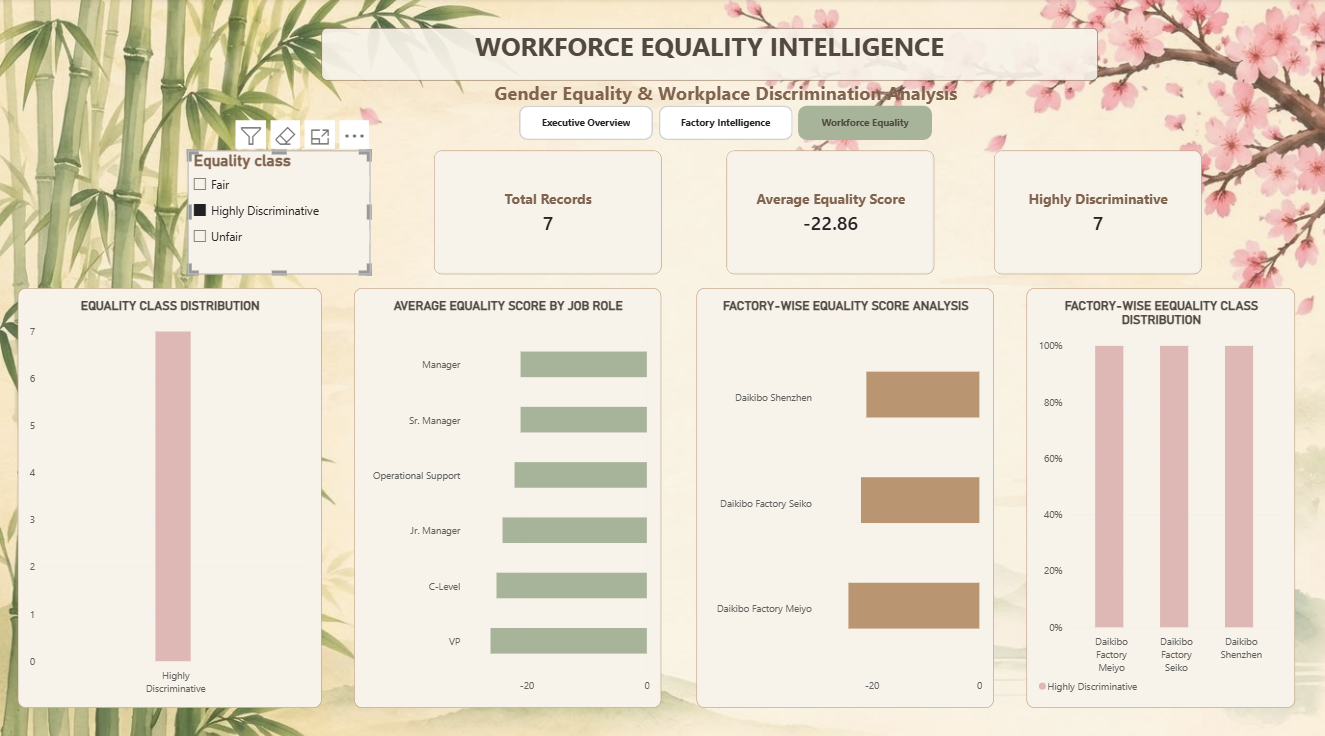

What the dashboard file says about the page in this screenshot:
{"tool":"powerbi","page":{"name":"Workforce Equality","canvas":[1920,1080],"ordinal":2},"visuals":[{"type":"textbox","box":[466.9,43.4,1123.8,76],"z":0},{"type":"textbox","box":[629.8,119.4,845.1,56.1],"z":1000},{"type":"cardVisual","fields":{"Data":["Query (3).Average Equality Score"]},"box":[1053.2,220.8,300.4,179.2],"z":2000},{"type":"cardVisual","fields":{"Data":["Query (3).Highly Discriminative"]},"box":[1440.5,220.8,300.4,179.2],"z":3000},{"type":"cardVisual","fields":{"Data":["Query (3).Total Records"]},"box":[629.8,220.8,329.4,179.2],"z":4000},{"type":"slicer","fields":{"Values":["Sheet1.Equality class"]},"box":[273.3,220.8,264.2,179.2],"z":5000},{"type":"clusteredColumnChart","title":"EQUALITY CLASS DISTRIBUTION","fields":{"Category":["Sheet1.Equality class"],"Y":["CountNonNull(Sheet1.Equality class)"]},"box":[27.1,419.8,439.7,608],"z":6000},{"type":"clusteredBarChart","title":"AVERAGE EQUALITY SCORE BY JOB ROLE","fields":{"Category":["Sheet1.Job Role"],"Y":["Avg(Sheet1.Equality Score)"]},"box":[513.9,419.8,445.2,608],"z":7000},{"type":"clusteredBarChart","title":"FACTORY-WISE EQUALITY SCORE ANALYSIS","fields":{"Category":["Sheet1.Factory"],"Y":["Avg(Sheet1.Equality Score)"]},"box":[1009.8,419.8,430.7,608],"z":8000},{"type":"hundredPercentStackedColumnChart","title":"FACTORY-WISE EEQUALITY CLASS DISTRIBUTION","fields":{"Category":["Sheet1.Factory"],"Series":["Sheet1.Equality class"],"Y":["CountNonNull(Sheet1.Equality class)"]},"box":[1487.5,419.8,389.1,608],"z":9000},{"type":"textbox","box":[23.5,112.2,1896.5,68.8],"z":10000},{"type":"pageNavigator","box":[752.8,155.6,600,50],"z":11000}]}

Visuals, with their boxes in screenshot pixels (x1, y1, x2, y2), scaled from the page's 1920x1080 canvas onto the 1325x736 screenshot:
textbox: bbox(322, 30, 1098, 81)
textbox: bbox(435, 81, 1018, 120)
cardVisual - Query (3).Average Equality Score: bbox(727, 150, 934, 273)
cardVisual - Query (3).Highly Discriminative: bbox(994, 150, 1201, 273)
cardVisual - Query (3).Total Records: bbox(435, 150, 662, 273)
slicer - Sheet1.Equality class: bbox(189, 150, 371, 273)
"EQUALITY CLASS DISTRIBUTION" clusteredColumnChart: bbox(19, 286, 322, 700)
"AVERAGE EQUALITY SCORE BY JOB ROLE" clusteredBarChart: bbox(355, 286, 662, 700)
"FACTORY-WISE EQUALITY SCORE ANALYSIS" clusteredBarChart: bbox(697, 286, 994, 700)
"FACTORY-WISE EEQUALITY CLASS DISTRIBUTION" hundredPercentStackedColumnChart: bbox(1027, 286, 1295, 700)
textbox: bbox(16, 76, 1324, 123)
pageNavigator: bbox(520, 106, 934, 140)
